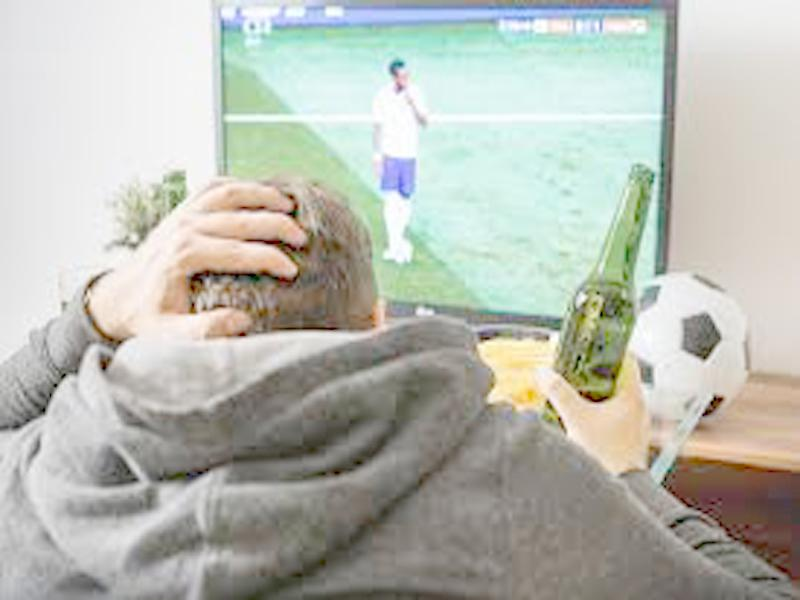Beer: (550, 164, 655, 439)
